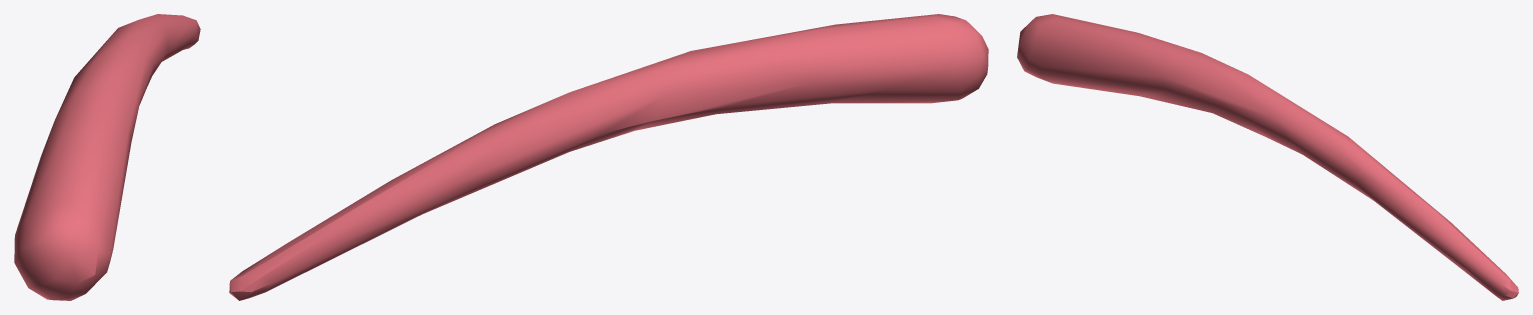
Rendered from fma8635_fj2913.glb.
3 views of the same model, side by side, from view 1: azimuth 30°, elevation 25°; view 2: azimuth 150°, elevation 25°; view 3: azimuth 270°, elevation 25° (orthographic). The views are drawn at different scales.
Visible parts, largest first — view 1: FMA8635_FJ2913; view 2: FMA8635_FJ2913; view 3: FMA8635_FJ2913.
Boxes of the visible parts, x1,y1,x2,y2 form: FMA8635_FJ2913: (14, 14, 200, 300); FMA8635_FJ2913: (229, 14, 988, 300); FMA8635_FJ2913: (1017, 14, 1518, 300).
Bounding box in the file's own units: 0.0171 × 0.00626 × 0.0208.
